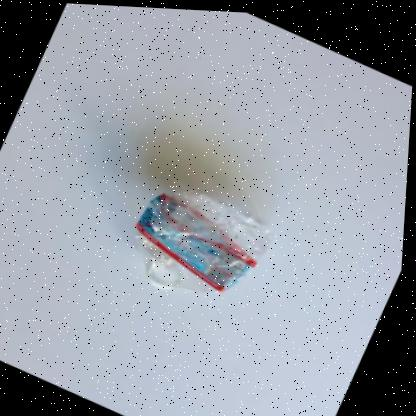Plastic: (136, 188, 274, 291)
